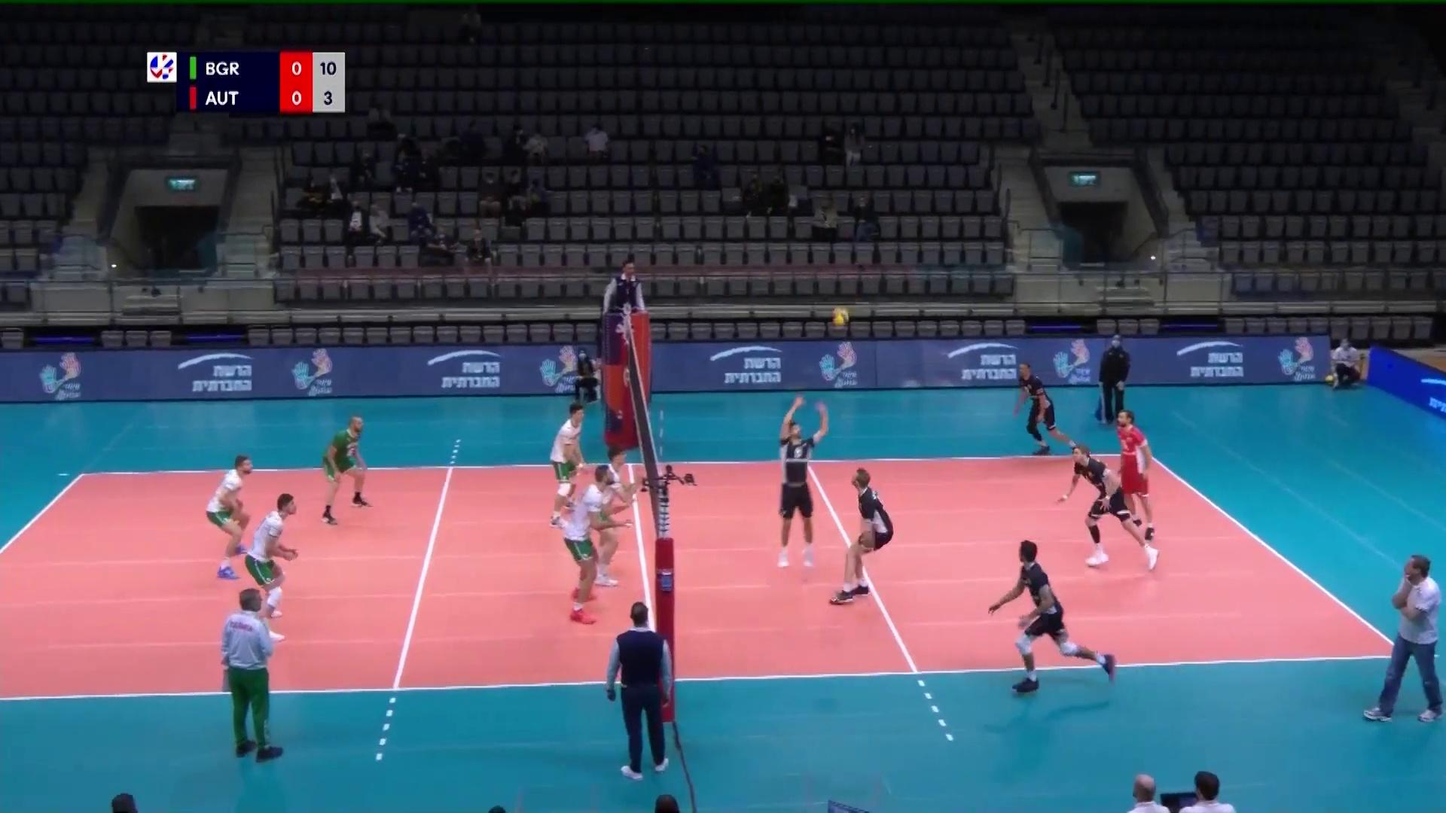ball: (829, 307, 851, 328)
